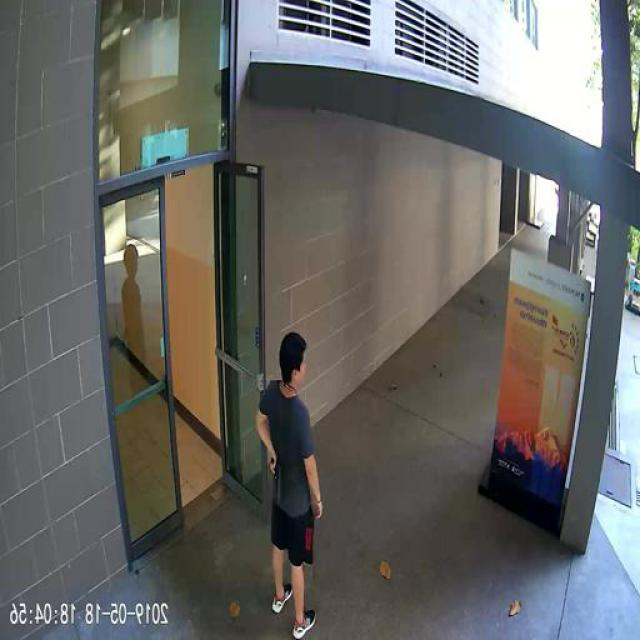Gun: (270, 455, 282, 503)
